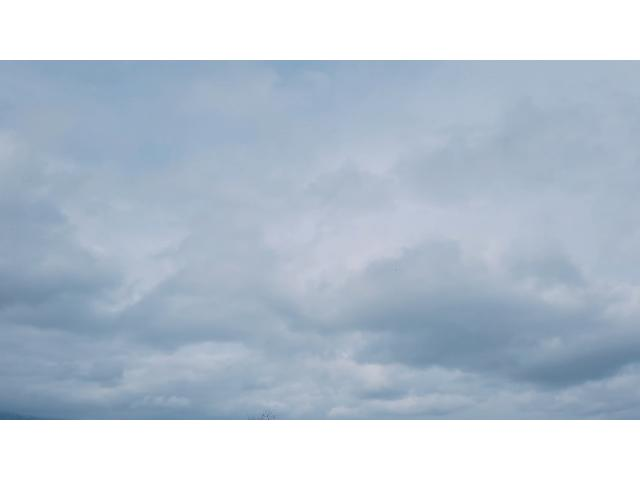Anti-Drone: (394, 267, 400, 273)
